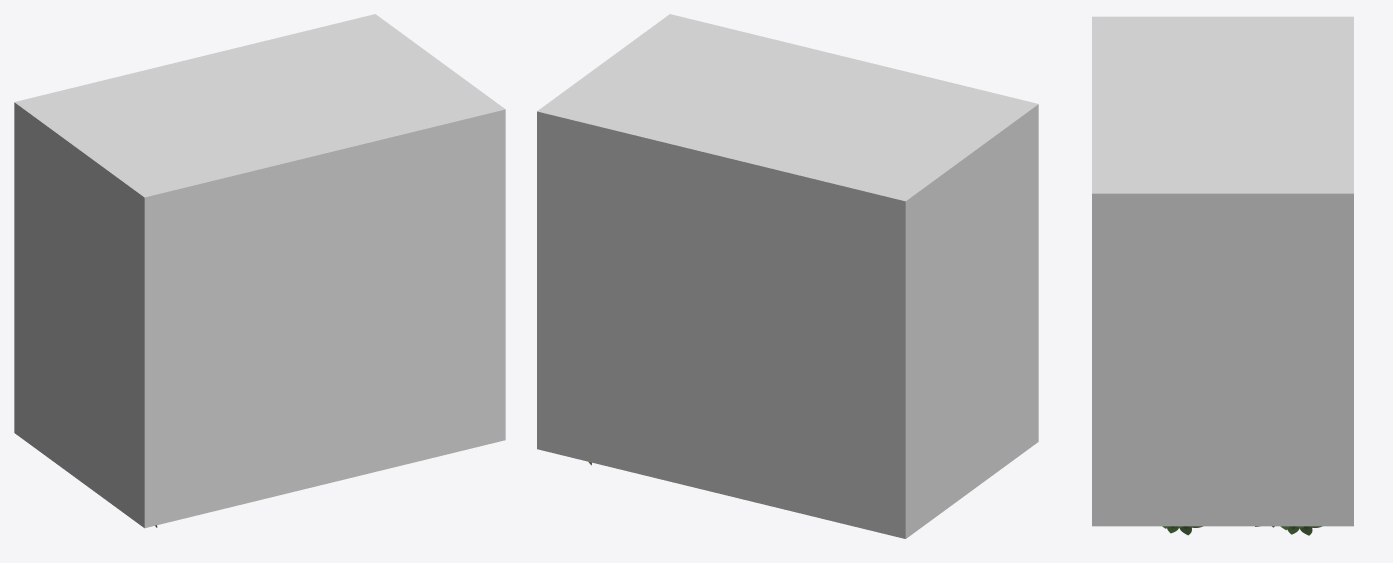
The model's file is Bush.gltf.
The picture shows the model from 3 angles, left to right: view 1: azimuth 30°, elevation 25°; view 2: azimuth 150°, elevation 25°; view 3: azimuth 270°, elevation 25°; orthographic projection. The views are drawn at different scales.
Visible parts, largest first — view 1: COL; view 2: COL; view 3: COL, Bush_2x2.
Part boxes in pixels (<box>): COL: <box>14,14,505,528</box>; COL: <box>537,14,1038,538</box>; COL: <box>1092,16,1353,526</box>; Bush_2x2: <box>1162,526,1322,535</box>.
Size of the model in its own units: 1.8 by 1.63 by 1.19.
Materials: 1 (1 with a texture image).
